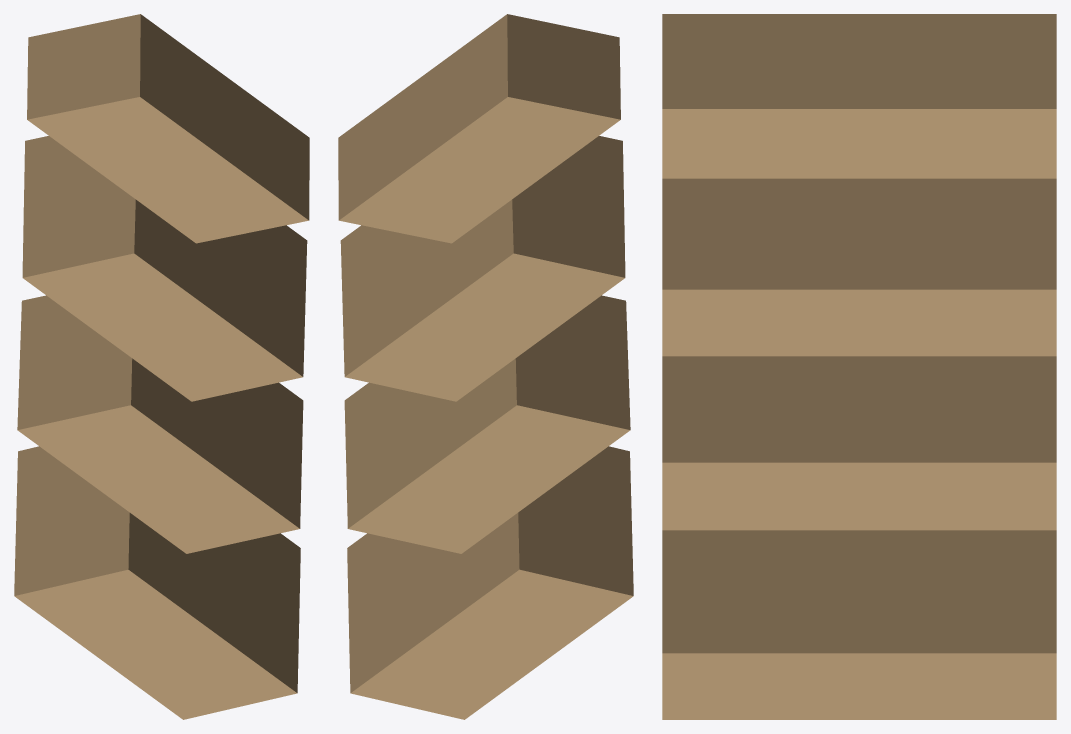
The picture shows the model from 3 angles, left to right: view 1: azimuth 30°, elevation 25°; view 2: azimuth 150°, elevation 25°; view 3: azimuth 270°, elevation 25°; orthographic projection. The views are drawn at different scales.
Visible parts, largest first — view 1: 0_2_1_3_0_0_2_3; view 2: 0_2_1_3_0_0_2_3; view 3: 0_2_1_3_0_0_2_3.
Boxes of the visible parts, x1,y1,x2,y2 form: 0_2_1_3_0_0_2_3: (14,14,309,719); 0_2_1_3_0_0_2_3: (338,14,633,719); 0_2_1_3_0_0_2_3: (662,14,1056,719).
Bounding box in the file's own units: 9.07 × 38.13 × 21.
